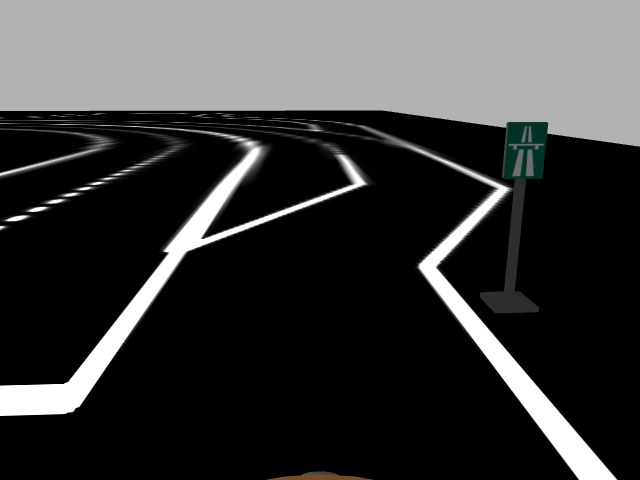enter_highway: (499, 121, 551, 181)
